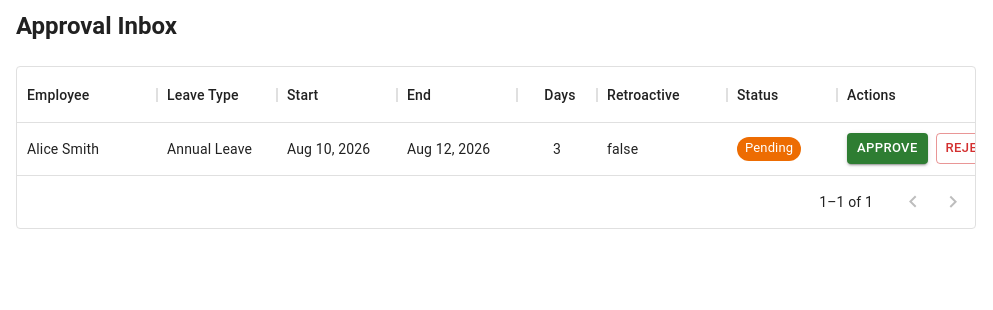
it: UT-FE-40: Approve failure shows action error and restores row › shows action-error alert when approveRequest rejects
This screenshot has width=993, height=310.
Step 1. Click the button with test id "approve-btn-lr-001" → (887, 148), box x1=847 y1=133 x2=928 y2=164
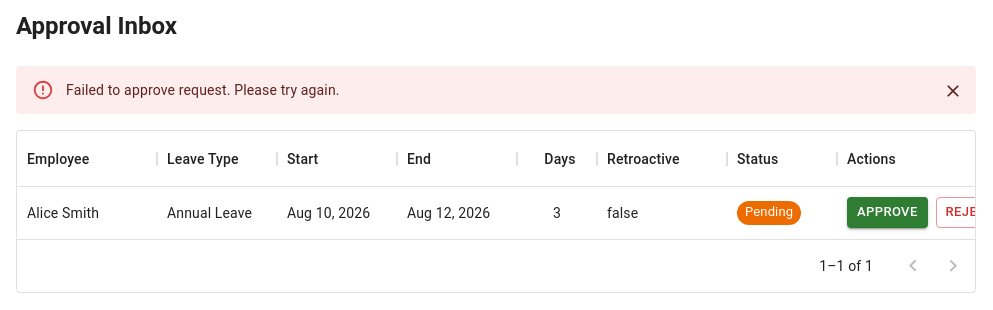
Check: the message "Failed to approve request. Please try again." is shown, box x1=16 y1=66 x2=976 y2=114
Check: the text "Failed to approve request. Please try again." is shown, box x1=66 y1=82 x2=340 y2=98
